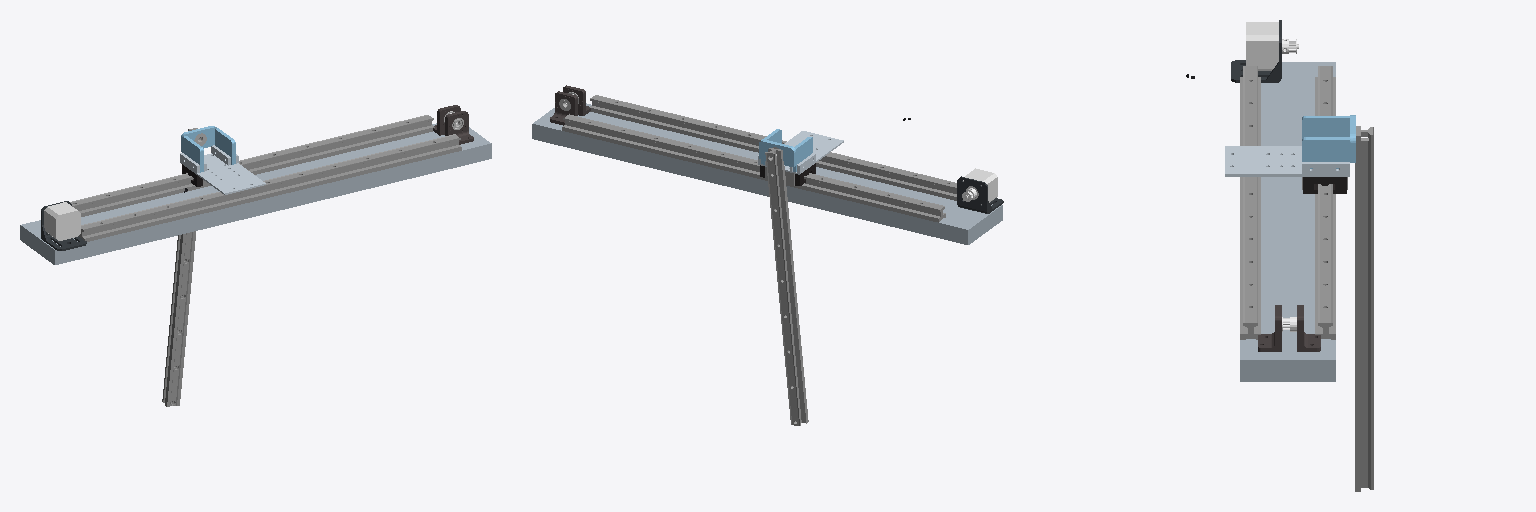
The robot description file, URDF, robot "pend_assem":
<!--URDF generated by ONSHAPE BY PTC INC, 1.214 (Physically Corrected)-->
<robot name="pend_assem">
    <!-- 608ZZ Bearing ~12g -->
    <link name="am_4456_8_mm_id_22_mm_od_shielded_bearing_608zz_57155k629">
        <inertial>
            <mass value="0.012" />
            <origin xyz="0 0 -0.000145" rpy="0 0 0" />
            <inertia ixx="7.06e-07" ixy="0" ixz="0" iyy="7.06e-07" iyz="0" izz="1.25e-07" />
        </inertial>
        <visual>
            <origin xyz="-0.0428135 -0.7747 0.031552" rpy="0 -0 0" />
            <geometry>
                <mesh filename="package://pend_assem/meshes/am_4456_8_mm_ID_22_mm_OD_Shielded_Bearing_608ZZ_57155K629.stl" scale="1 1 1" />
            </geometry>
            <material name="0.752941_0.752941_0.752941_0.000000_0.000000">
                <color rgba="0.752941 0.752941 0.752941 1" />
            </material>
        </visual>
    </link>

    <link name="am_4456_8_mm_id_22_mm_od_shielded_bearing_608zz_57155k629_1">
        <inertial>
            <mass value="0.012" />
            <origin xyz="0 0 -0.00329" rpy="0 0 0" />
            <inertia ixx="7.06e-07" ixy="0" ixz="0" iyy="7.06e-07" iyz="0" izz="1.25e-07" />
        </inertial>
        <visual>
            <origin xyz="-0.0428135 -0.7747 0.028402" rpy="0 -0 0" />
            <geometry>
                <mesh filename="package://pend_assem/meshes/am_4456_8_mm_ID_22_mm_OD_Shielded_Bearing_608ZZ_57155K629.stl" scale="1 1 1" />
            </geometry>
            <material name="0.752941_0.752941_0.752941_0.000000_0.000000">
                <color rgba="0.752941 0.752941 0.752941 1" />
            </material>
        </visual>
    </link>

    <link name="am_4456_8_mm_id_22_mm_od_shielded_bearing_608zz_57155k629_2">
        <inertial>
            <mass value="0.012" />
            <origin xyz="0.0428 0.7747 -0.0316" rpy="0 0 0" />
            <inertia ixx="7.06e-07" ixy="0" ixz="0" iyy="7.06e-07" iyz="0" izz="1.25e-07" />
        </inertial>
        <visual>
            <origin xyz="0 0 0" rpy="0 -0 0" />
            <geometry>
                <mesh filename="package://pend_assem/meshes/am_4456_8_mm_ID_22_mm_OD_Shielded_Bearing_608ZZ_57155K629.stl" scale="1 1 1" />
            </geometry>
            <material name="0.752941_0.752941_0.752941_0.000000_0.000000">
                <color rgba="0.752941 0.752941 0.752941 1" />
            </material>
        </visual>
    </link>

    <link name="bearing_holder">
        <inertial>
            <mass value="0.025" />
            <origin xyz="0.0 -0.007 -0.010" rpy="0 0 0" />
            <inertia ixx="2.15e-07" ixy="0" ixz="0" iyy="2.95e-07" iyz="0" izz="1.66e-07" />
        </inertial>
        <visual>
            <origin xyz="-3.81639e-18 -0.0156875 -0.0241538" rpy="0 -0 0" />
            <geometry>
                <mesh filename="package://pend_assem/meshes/Bearing_Holder.stl" scale="1 1 1" />
            </geometry>
            <material name="0.341176_0.313725_0.313725_0.000000_0.000000">
                <color rgba="0.341176 0.313726 0.313726 1" />
            </material>
        </visual>
    </link>

    <link name="bearing_holder_1">
        <inertial>
            <mass value="0.025" />
            <origin xyz="0 -0.007 -0.010" rpy="0 0 0" />
            <inertia ixx="2.15e-07" ixy="0" ixz="0" iyy="2.95e-07" iyz="0" izz="1.66e-07" />
        </inertial>
        <visual>
            <origin xyz="-3.81639e-18 -0.0156875 -0.0241538" rpy="0 -0 0" />
            <geometry>
                <mesh filename="package://pend_assem/meshes/Bearing_Holder.stl" scale="1 1 1" />
            </geometry>
            <material name="0.341176_0.313725_0.313725_0.000000_0.000000">
                <color rgba="0.341176 0.313726 0.313726 1" />
            </material>
        </visual>
    </link>

    <link name="bracket_nema_17">
        <inertial>
            <mass value="0.050" />
            <origin xyz="0.014 -0.017 0" rpy="0 0 0" />
            <inertia ixx="6.39e-07" ixy="0" ixz="0" iyy="6.85e-07" iyz="0" izz="6.83e-07" />
        </inertial>
        <visual>
            <origin xyz="0.003 -0.025 -0.025" rpy="0 -0 0" />
            <geometry>
                <mesh filename="package://pend_assem/meshes/Bracket_Nema_17.stl" scale="1 1 1" />
            </geometry>
            <material name="0.262745_0.282353_0.301961_0.000000_0.000000">
                <color rgba="0.262745 0.282353 0.301961 1" />
            </material>
        </visual>
    </link>

    <link name="linear_rail">
        <inertial>
            <mass value="0.65" />
            <origin xyz="0 0.01 0.008" rpy="0 0 0" />
            <inertia ixx="7.50e-05" ixy="0" ixz="0" iyy="0.02" iyz="0" izz="0.02" />
        </inertial>
        <visual>
            <origin xyz="0.3175 0.010945 0.00648" rpy="0 -0 0" />
            <geometry>
                <mesh filename="package://pend_assem/meshes/Linear_Rail.stl" scale="1 1 1" />
            </geometry>
            <material name="0.647059_0.647059_0.647059_0.000000_0.000000">
                <color rgba="0.647059 0.647059 0.647059 1" />
            </material>
        </visual>
    </link>

    <link name="linear_rail_1">
        <inertial>
            <mass value="0.65" />
            <origin xyz="0 -0.01 0.008" rpy="0 0 0" />
            <inertia ixx="7.50e-05" ixy="0" ixz="0" iyy="0.02" iyz="0" izz="0.02" />
        </inertial>
        <visual>
            <origin xyz="0.3175 -0.010945 0.00648" rpy="0 -0 0" />
            <geometry>
                <mesh filename="package://pend_assem/meshes/Linear_Rail.stl" scale="1 1 1" />
            </geometry>
            <material name="0.647059_0.647059_0.647059_0.000000_0.000000">
                <color rgba="0.647059 0.647059 0.647059 1" />
            </material>
        </visual>
    </link>

    <link name="nema17">
        <inertial>
            <mass value="0.350" />
            <origin xyz="0 0 -0.018" rpy="0 0 0" />
            <inertia ixx="0.00015" ixy="0" ixz="0" iyy="0.00015" iyz="0" izz="0.00016" />
        </inertial>
        <visual>
            <origin xyz="0 -6.58248e-19 -0.036" rpy="0 -0 0" />
            <geometry>
                <mesh filename="package://pend_assem/meshes/NEMA17.stl" scale="1 1 1" />
            </geometry>
            <material name="0.917647_0.917647_0.917647_0.000000_0.000000">
                <color rgba="0.917647 0.917647 0.917647 1" />
            </material>
        </visual>
    </link>

    <link name="part_1">
        <inertial>
            <mass value="0.034" />
            <origin xyz="0.022 0.033 0.0009" rpy="0 0 0" />
            <inertia ixx="5.46e-05" ixy="0" ixz="0" iyy="3.16e-05" iyz="0" izz="7.74e-05" />
        </inertial>
        <visual>
            <origin xyz="0.023 0.034 -0.009815" rpy="0 -0 0" />
            <geometry>
                <mesh filename="package://pend_assem/meshes/Part_1.stl" scale="1 1 1" />
            </geometry>
            <material name="0.203922_0.188235_0.188235_0.000000_0.000000">
                <color rgba="0.203922 0.188235 0.188235 1" />
            </material>
        </visual>
    </link>

    <link name="part_1_1">
        <inertial>
            <mass value="0.042" />
            <origin xyz="0.006 0.015 0.003" rpy="0 0 0" />
            <inertia ixx="2.28e-05" ixy="0" ixz="0" iyy="5.86e-05" iyz="0" izz="8.01e-05" />
        </inertial>
        <visual>
            <origin xyz="-0.0191798 0.0150179 -0.00063" rpy="0 -0 0" />
            <geometry>
                <mesh filename="package://pend_assem/meshes/Part_1_1.stl" scale="1 1 1" />
            </geometry>
            <material name="0.811765_0.858824_0.898039_0.000000_0.000000">
                <color rgba="0.811765 0.858824 0.898039 1" />
            </material>
        </visual>
    </link>

    <link name="part_1_2">
        <inertial>
            <mass value="0.040" />
            <origin xyz="0.029 -0.003 0.014" rpy="0 0 0" />
            <inertia ixx="1.77e-05" ixy="0" ixz="0" iyy="2.93e-05" iyz="0" izz="3.74e-05" />
        </inertial>
        <visual>
            <origin xyz="0.0544331 0.0122912 0.0540221" rpy="0 -0 0" />
            <geometry>
                <mesh filename="package://pend_assem/meshes/Part_1_2.stl" scale="1 1 1" />
            </geometry>
            <material name="0.615686_0.811765_0.929412_0.000000_0.000000">
                <color rgba="0.615686 0.811765 0.929412 1" />
            </material>
        </visual>
    </link>

    <link name="part_2">
        <inertial>
            <mass value="0.035" />
            <origin xyz="-0.019 -0.015 -0.004" rpy="0 0 0" />
            <inertia ixx="1.07e-06" ixy="0" ixz="0" iyy="1.70e-06" iyz="0" izz="2.43e-06" />
        </inertial>
        <visual>
            <origin xyz="-0.0191798 -0.015 -0.01973" rpy="0 -0 0" />
            <geometry>
                <mesh filename="package://pend_assem/meshes/Part_2.stl" scale="1 1 1" />
            </geometry>
            <material name="0.647059_0.647059_0.647059_0.000000_0.000000">
                <color rgba="0.647059 0.647059 0.647059 1" />
            </material>
        </visual>
    </link>

    <!-- Updated for 16.18 inch (0.411m) length, 200g mass -->
    <link name="pendulum">
        <inertial>
            <mass value="0.200" />
            <!-- COM is at the halfway point of the 0.411m rod -->
            <origin xyz="0.2055 0 0.007" rpy="0 0 0" />
            <inertia 
                ixx="0.00001" 
                ixy="0" 
                ixz="0" 
                iyy="0.0113" 
                iyz="0" 
                izz="0.0113" />
        </inertial>
        <visual>
            <origin xyz="0.423787 0 0.00505505" rpy="0 0 0" />
            <geometry>
                <mesh filename="package://pend_assem/meshes/Pendulum.stl" scale="1 1 1" />
            </geometry>
            <material name="0.647059_0.647059_0.647059_0.000000_0.000000">
                <color rgba="0.647059 0.647059 0.647059 1" />
            </material>
        </visual>
    </link>

    <link name="pulley">
        <inertial>
            <mass value="0.020" />
            <origin xyz="0.007 0 0" rpy="0 0 0" />
            <inertia ixx="6.58e-07" ixy="0" ixz="0" iyy="8.07e-07" iyz="0" izz="8.07e-07" />
        </inertial>
        <visual>
            <origin xyz="0 0 0" rpy="0 -0 0" />
            <geometry>
                <mesh filename="package://pend_assem/meshes/Pulley.stl" scale="1 1 1" />
            </geometry>
            <material name="0.960784_0.960784_0.964706_0.000000_0.000000">
                <color rgba="0.960784 0.960784 0.964706 1" />
            </material>
        </visual>
    </link>

    <link name="pulley_1">
        <inertial>
            <mass value="0.020" />
            <origin xyz="0.007 0 0" rpy="0 0 0" />
            <inertia ixx="6.58e-07" ixy="0" ixz="0" iyy="8.07e-07" iyz="0" izz="8.07e-07" />
        </inertial>
        <visual>
            <origin xyz="0 0 0" rpy="0 -0 0" />
            <geometry>
                <mesh filename="package://pend_assem/meshes/Pulley.stl" scale="1 1 1" />
            </geometry>
            <material name="0.960784_0.960784_0.964706_0.000000_0.000000">
                <color rgba="0.960784 0.960784 0.964706 1" />
            </material>
        </visual>
    </link>

    <link name="root">
        <visual>
            <origin xyz="-0.198802 -0.192569 -0.00319955" rpy="0 1.5708 2.05327e-14" />
            <geometry>
                <mesh filename="package://pend_assem/meshes/Grub_Screw.stl" scale="1 1 1" />
            </geometry>
            <material name="0.149020_0.149020_0.164706_0.000000_0.000000">
                <color rgba="0.14902 0.14902 0.164706 1" />
            </material>
        </visual>
        <visual>
            <origin xyz="-0.198645 -0.188486 -0.00712455" rpy="-3.14159 3.46945e-17 -1.5708" />
            <geometry>
                <mesh filename="package://pend_assem/meshes/Grub_Screw.stl" scale="1 1 1" />
            </geometry>
            <material name="0.149020_0.149020_0.164706_0.000000_0.000000">
                <texture />
                <color rgba="0.14902 0.14902 0.164706 1" />
            </material>
        </visual>
    </link>

    <link name="wood_base">
        <inertial>
            <mass value="0.772" />
            <origin xyz="0.025 0 0.0125" rpy="0 0 0" />
            <inertia ixx="0.0006" ixy="0" ixz="0" iyy="0.034" iyz="0" izz="0.035" />
        </inertial>
        <visual>
            <origin xyz="0 0 0" rpy="0 -0 0" />
            <geometry>
                <mesh filename="package://pend_assem/meshes/Wood_Base.stl" scale="1 1 1" />
            </geometry>
            <material name="0.713725_0.760784_0.800000_0.000000_0.000000">
                <color rgba="0.713726 0.760784 0.8 1" />
            </material>
        </visual>
    </link>

    <joint name="dof_cart_slider_0" type="prismatic">
        <origin xyz="-0.0900136 0.011055 0.0194897" rpy="0 0 -1.5708" />
        <axis xyz="0 -1 0" />
        <parent link="linear_rail_1" />
        <child link="part_1" />
        <limit effort="75.0" velocity="2.0" lower="-0.325" upper="0.215" />
        <dynamics damping="0.1" friction="0.15"/>
    </joint>

    <joint name="dof_pendulum_pivot_0" type="continuous">
        <origin xyz="0.0294412 0.0192912 0.0192698" rpy="1.5708 1.46996 3.14159" />
        <axis xyz="0 0 -1" />
        <parent link="part_1_2" />
        <child link="pendulum" />
        <limit effort="0.48" /> <!-- Based on NEMA 17 Holding Torque -->
        <dynamics damping="0.01" friction="0.001"/>
    </joint>

    <joint name="fastened_10_0" type="fixed">
        <origin xyz="-1.38778e-17 0 0" rpy="3.14159 -1.12166e-30 1.5708" />
        <axis xyz="0 -1 0" />
        <parent link="pulley_1" />
        <child link="bearing_holder" />
    </joint>

    <joint name="fastened_11_0" type="fixed">
        <origin xyz="0.0428135 0.7747 -0.034702" rpy="-1.5708 -1.31533e-16 5.69459e-30" />
        <axis xyz="0 -1 0" />
        <parent link="am_4456_8_mm_id_22_mm_od_shielded_bearing_608zz_57155k629_2" />
        <child link="bearing_holder_1" />
    </joint>

    <joint name="fastened_12_0" type="fixed">
        <origin xyz="0 0 0" rpy="3.14159 3.93415e-17 -3.14159" />
        <axis xyz="1 0 0" />
        <parent link="pulley" />
        <child link="bracket_nema_17" />
    </joint>

    <joint name="fastened_13_0" type="fixed">
        <origin xyz="0.0294412 0.0157912 0.0192698" rpy="-1.5708 -4.51647e-24 -1.31534e-16" />
        <axis xyz="0 0 1" />
        <parent link="part_1_2" />
        <child link="am_4456_8_mm_id_22_mm_od_shielded_bearing_608zz_57155k629" />
    </joint>

    <joint name="fastened_1_0" type="fixed">
        <origin xyz="0.025 -0.05 0.025" rpy="0 -0 1.31533e-16" />
        <axis xyz="1 0 0" />
        <parent link="wood_base" />
        <child link="linear_rail" />
    </joint>

    <joint name="fastened_2_0" type="fixed">
        <origin xyz="0.0015 0 0" rpy="0 1.5708 3.14159" />
        <axis xyz="0 0 -1" />
        <parent link="bracket_nema_17" />
        <child link="nema17" />
    </joint>

    <joint name="fastened_3_0" type="fixed">
        <origin xyz="0.0421798 0.049 0.009815" rpy="0 0 0" />
        <axis xyz="0 0 -1" />
        <parent link="part_1" />
        <child link="part_2" />
    </joint>

    <joint name="fastened_4_0" type="fixed">
        <origin xyz="0.025 0.05 0.025" rpy="0 0 1.13e-16" />
        <axis xyz="1 0 0" />
        <parent link="wood_base" />
        <child link="linear_rail_1" />
    </joint>

    <joint name="fastened_5_0" type="fixed">
        <origin xyz="0 -0.0300179 0.0009" rpy="0 0 0" />
        <axis xyz="0 0 1" />
        <parent link="part_2" />
        <child link="part_1_1" />
    </joint>

    <joint name="fastened_6_0" type="fixed">
        <origin xyz="-0.0329642 -0.014551 0.00930168" rpy="0 0 1.5708" />
        <axis xyz="-1 0 0" />
        <parent link="part_1_1" />
        <child link="part_1_2" />
    </joint>

    <joint name="fastened_9_0" type="fixed">
        <origin xyz="0 -1.38778e-17 -4.16334e-17" rpy="1.5708 0 3.14159" />
        <axis xyz="0 0 1" />
        <parent link="bearing_holder" />
        <child link="am_4456_8_mm_id_22_mm_od_shielded_bearing_608zz_57155k629_1" />
    </joint>

    <joint name="fixed_node_to_root_joint_0" type="fixed">
        <origin xyz="-0.0497919 -0.0874845 -0.104688" rpy="0 -0 0" />
        <axis xyz="0 0 1" />
        <parent link="root" />
        <child link="wood_base" />
    </joint>

    <joint name="hanging_node_to_root_joint_0" type="fixed">
        <origin xyz="-0.366292 -0.0945071 -0.0493484" rpy="1.5708 0 1.5708" />
        <axis xyz="0 0 1" />
        <parent link="root" />
        <child link="pulley" />
    </joint>

    <joint name="hanging_node_to_root_joint_1" type="fixed">
        <origin xyz="0.264895 -0.129297 -0.829495" rpy="1.5708 0 1.31e-16" />
        <axis xyz="0 0 1" />
        <parent link="root" />
        <child link="am_4456_8_mm_id_22_mm_od_shielded_bearing_608zz_57155k629_2" />
    </joint>

    <joint name="hanging_node_to_root_joint_2" type="fixed">
        <origin xyz="0.307708 -0.0782445 -0.0547944" rpy="3.14159 0 -1.5708" />
        <axis xyz="0 0 1" />
        <parent link="root" />
        <child link="pulley_1" />
    </joint>
</robot>

--- What the picture shows (computed from the rendered views, not written in the file) ---
The picture shows the robot from 3 angles, left to right: view 1: azimuth 30°, elevation 25°; view 2: azimuth 150°, elevation 25°; view 3: azimuth 270°, elevation 25°; orthographic projection.
Model pend_assem with 18 links and 17 joints (1 continuous, 1 prismatic, 15 fixed), rooted at root, posed all joints at 0.
Links seen in each view (by area): view 1: wood_base, linear_rail, linear_rail_1, pendulum, part_1_1, part_1_2, nema17, bracket_nema_17, bearing_holder_1; view 2: wood_base, linear_rail_1, linear_rail, pendulum, part_1_2, part_1_1, bracket_nema_17, nema17; view 3: wood_base, pendulum, linear_rail, linear_rail_1, part_1_1, part_1_2, nema17, bracket_nema_17, bearing_holder_1, bearing_holder, part_1.
Link boxes in pixels (<box>): wood_base: <box>20,123,491,264</box>; linear_rail: <box>79,134,461,241</box>; linear_rail_1: <box>70,115,434,216</box>; pendulum: <box>162,128,200,406</box>; part_1_1: <box>180,145,265,194</box>; part_1_2: <box>181,126,235,172</box>; nema17: <box>44,202,80,240</box>; bracket_nema_17: <box>41,201,86,250</box>; bearing_holder_1: <box>445,111,473,144</box>; wood_base: <box>532,103,1002,244</box>; linear_rail_1: <box>562,114,945,222</box>; linear_rail: <box>589,95,956,200</box>; pendulum: <box>765,148,808,425</box>; part_1_2: <box>759,129,812,171</box>; part_1_1: <box>758,131,843,174</box>; bracket_nema_17: <box>957,176,1003,213</box>; nema17: <box>963,168,997,204</box>; wood_base: <box>1240,62,1335,381</box>; pendulum: <box>1355,126,1373,491</box>; linear_rail: <box>1240,66,1260,339</box>; linear_rail_1: <box>1315,66,1335,339</box>; part_1_1: <box>1225,146,1349,176</box>; part_1_2: <box>1302,115,1355,168</box>; nema17: <box>1246,22,1298,70</box>; bracket_nema_17: <box>1231,20,1281,82</box>; bearing_holder_1: <box>1258,305,1281,351</box>; bearing_holder: <box>1297,305,1320,351</box>; part_1: <box>1303,177,1346,193</box>.
Size in the robot's own frame: 0.7358 by 0.1955 by 0.438 metres.
19 mesh visuals loaded from 13 distinct referenced files (13 binary STL).
